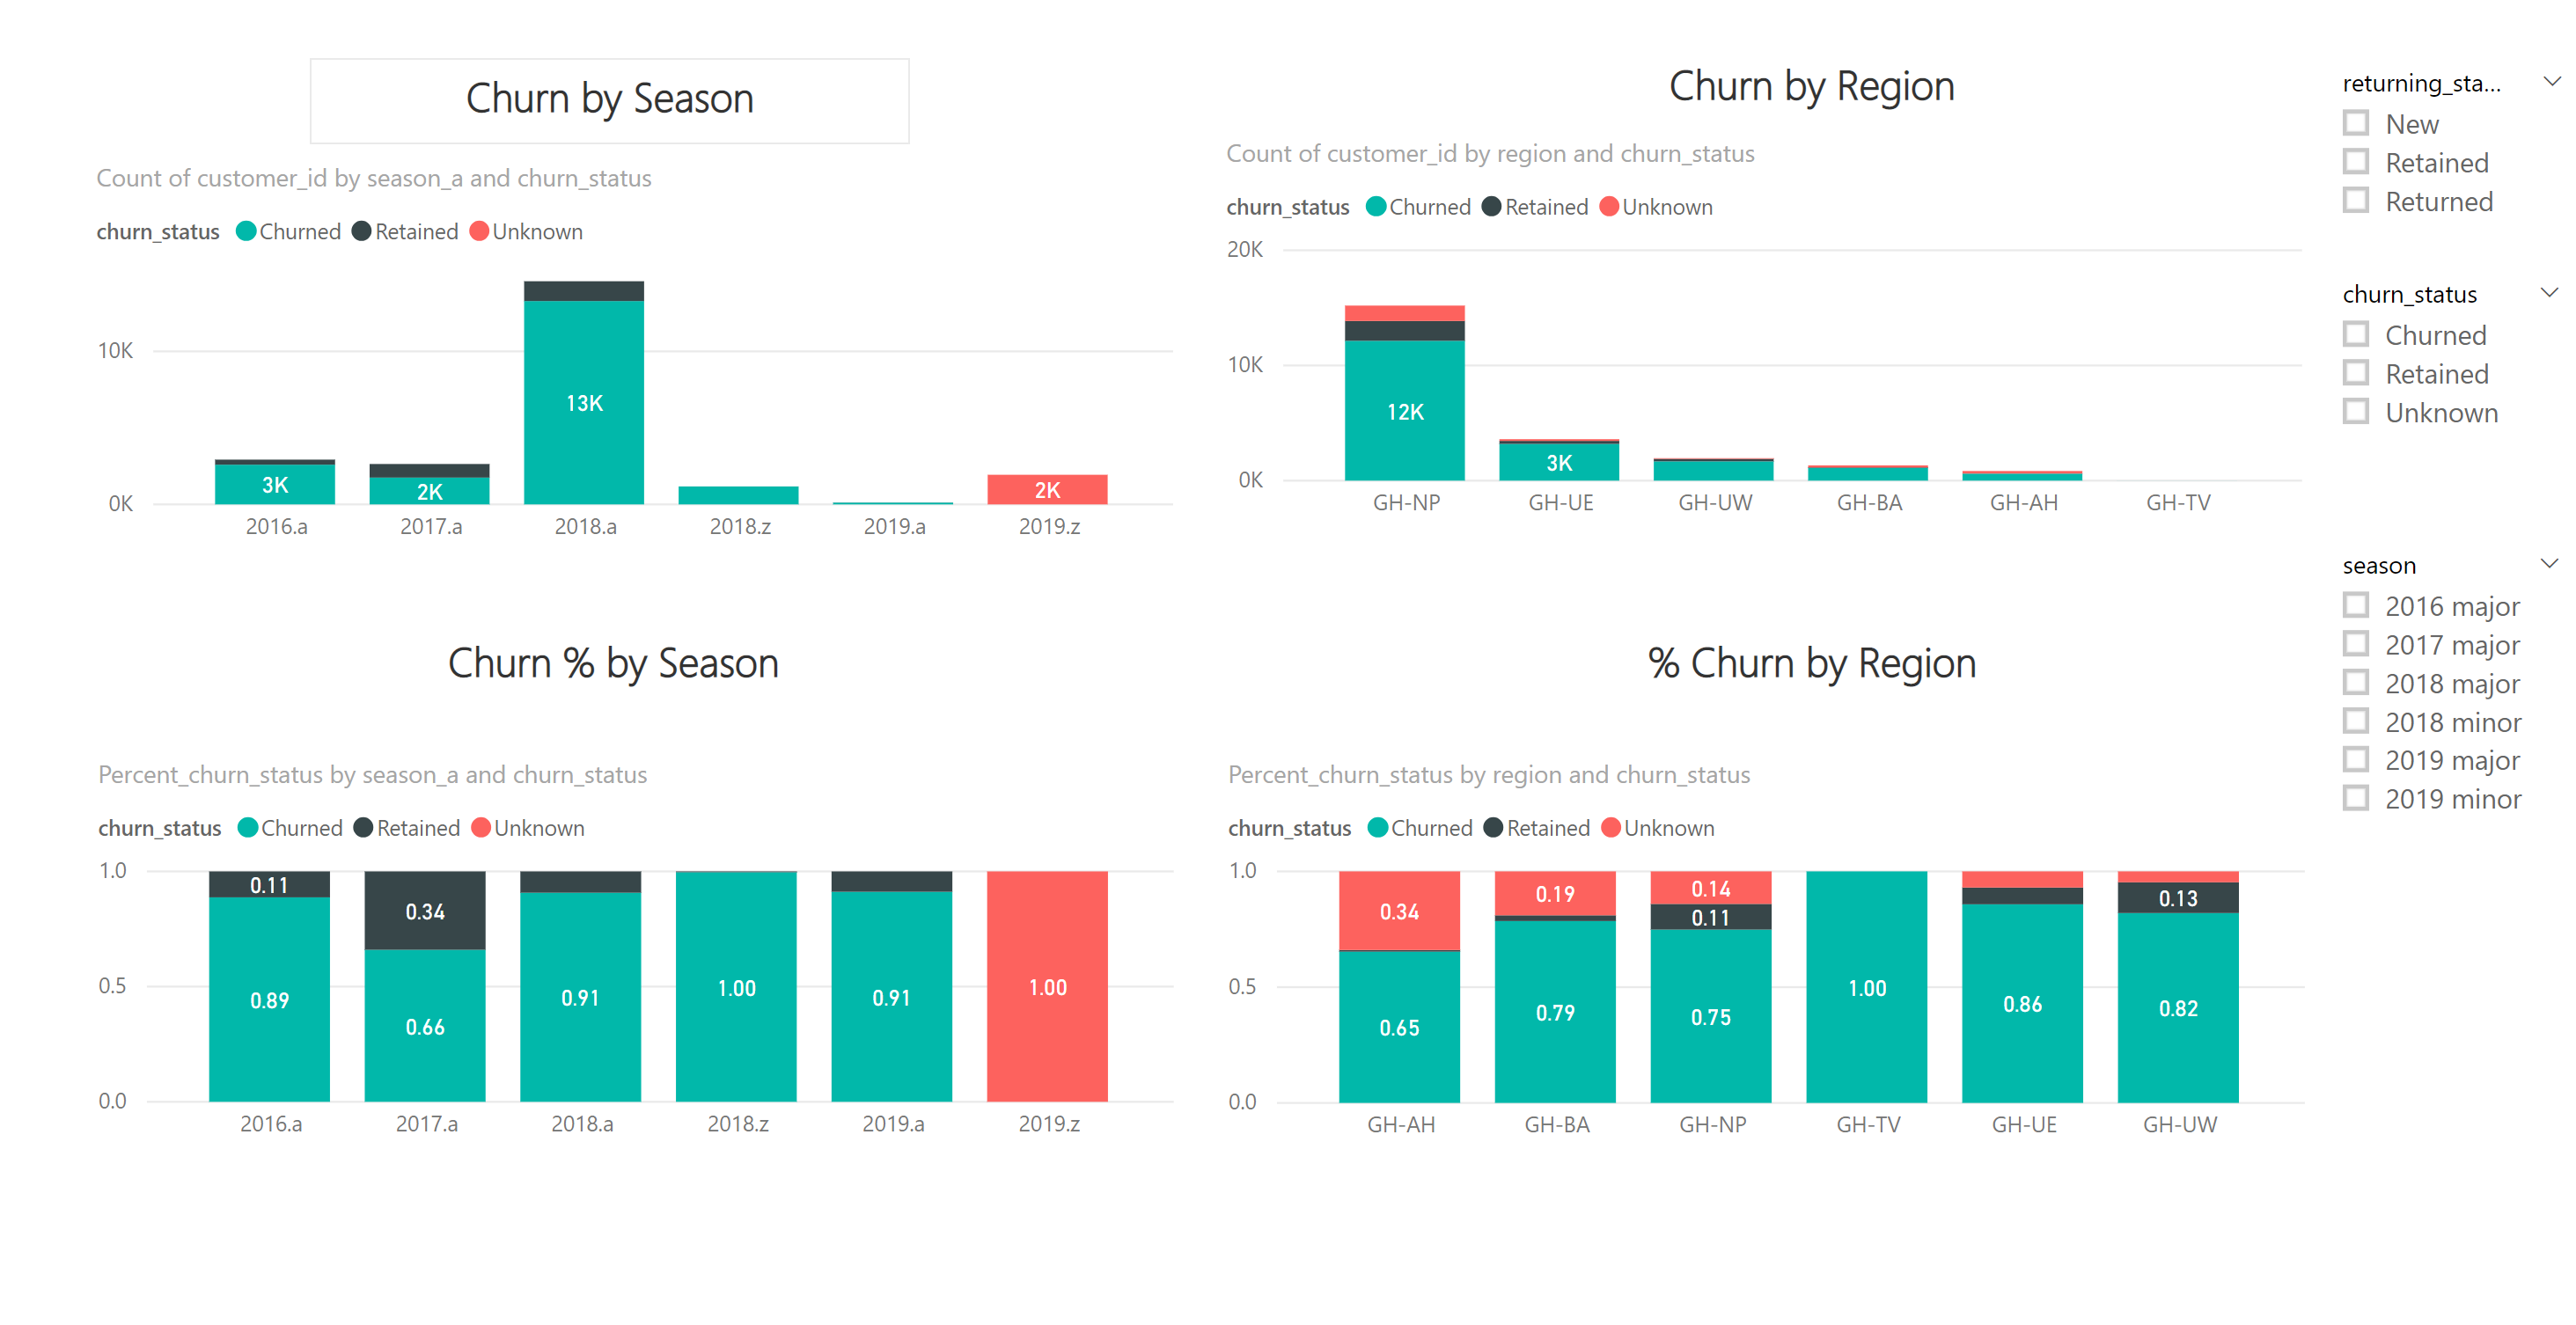

This screenshot's page, from the dashboard's own definition file:
{"tool":"powerbi","page":{"name":"Churn View","canvas":[1280,720],"ordinal":1},"visuals":[{"type":"columnChart","fields":{"Category":["Final_table.region"],"Series":["Final_table.churn_status"],"Y":["Count(Final_table.customer_id)"]},"box":[606.5,75.2,539.5,197.8],"z":0},{"type":"slicer","fields":{"Values":["Final_table.season"]},"box":[1148.2,272.7,132.3,196.4],"z":11},{"type":"slicer","fields":{"Values":["Final_table.churn_status"]},"box":[1148.2,139.1,132.3,133.6],"z":1000},{"type":"slicer","fields":{"Values":["Final_table.returning_status"]},"box":[1148.2,35.5,133.6,103.6],"z":2000},{"type":"textbox","box":[752,315.5,295.9,44.1],"z":3000},{"type":"textbox","box":[160.2,37.6,295.9,42.5],"z":4000},{"type":"textbox","box":[752,31.1,295.9,44.1],"z":5000},{"type":"textbox","box":[161.8,315.5,295.9,44.1],"z":6000},{"type":"columnChart","fields":{"Category":["Final_table.season_a"],"Series":["Final_table.churn_status"],"Y":["Count(Final_table.customer_id)"]},"box":[50.5,87.3,540,197.7],"z":7000},{"type":"columnChart","fields":{"Series":["Final_table.churn_status"],"Category":["Final_table.season_a"],"Y":["Final_table.Percent_churn_status"]},"box":[51.1,380.9,539.5,197.9],"z":8000},{"type":"columnChart","fields":{"Category":["Final_table.region"],"Series":["Final_table.churn_status"],"Y":["Final_table.Percent_churn_status"]},"box":[607.6,381.6,539.9,198.7],"z":9000}]}

Visuals, with their boxes on the page's 1280x720 design canvas (x1, y1, x2, y2). These are canvas units, not pixel positions in the 2576x1325 screenshot, which may show the page scaled, cropped or inside an application window:
columnChart - Final_table.region x Final_table.churn_status: {"left": 606, "top": 75, "right": 1146, "bottom": 273}
slicer - Final_table.season: {"left": 1148, "top": 273, "right": 1280, "bottom": 469}
slicer - Final_table.churn_status: {"left": 1148, "top": 139, "right": 1280, "bottom": 273}
slicer - Final_table.returning_status: {"left": 1148, "top": 36, "right": 1282, "bottom": 139}
textbox: {"left": 752, "top": 316, "right": 1048, "bottom": 360}
textbox: {"left": 160, "top": 38, "right": 456, "bottom": 80}
textbox: {"left": 752, "top": 31, "right": 1048, "bottom": 75}
textbox: {"left": 162, "top": 316, "right": 458, "bottom": 360}
columnChart - Final_table.season_a x Final_table.churn_status: {"left": 50, "top": 87, "right": 590, "bottom": 285}
columnChart - Final_table.churn_status x Final_table.season_a: {"left": 51, "top": 381, "right": 591, "bottom": 579}
columnChart - Final_table.region x Final_table.churn_status: {"left": 608, "top": 382, "right": 1148, "bottom": 580}
